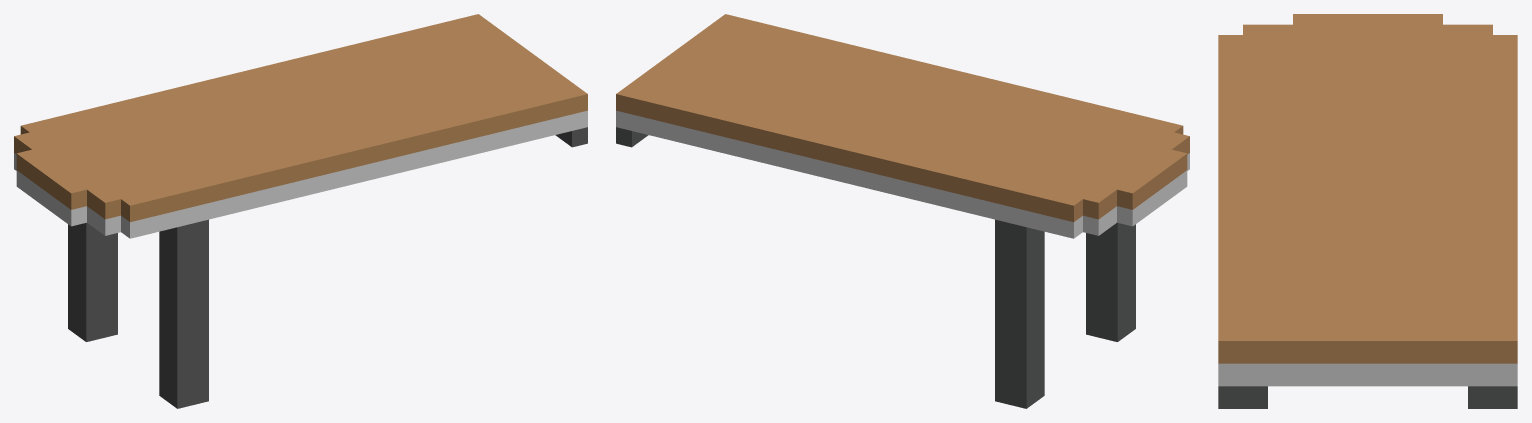
The model's file is table.gltf.
3 renders of one model, left to right at view 1: azimuth 30°, elevation 25°; view 2: azimuth 150°, elevation 25°; view 3: azimuth 270°, elevation 25°, orthographic. The views are drawn at different scales.
Parts seen in each view (by area): view 1: Layer.1; view 2: Layer.1; view 3: Layer.1.
Boxes of the visible parts, x1,y1,x2,y2 form: Layer.1: (14, 14, 587, 408); Layer.1: (616, 14, 1189, 408); Layer.1: (1218, 14, 1517, 408).
Size of the model in its own units: 31 by 13 by 12.
